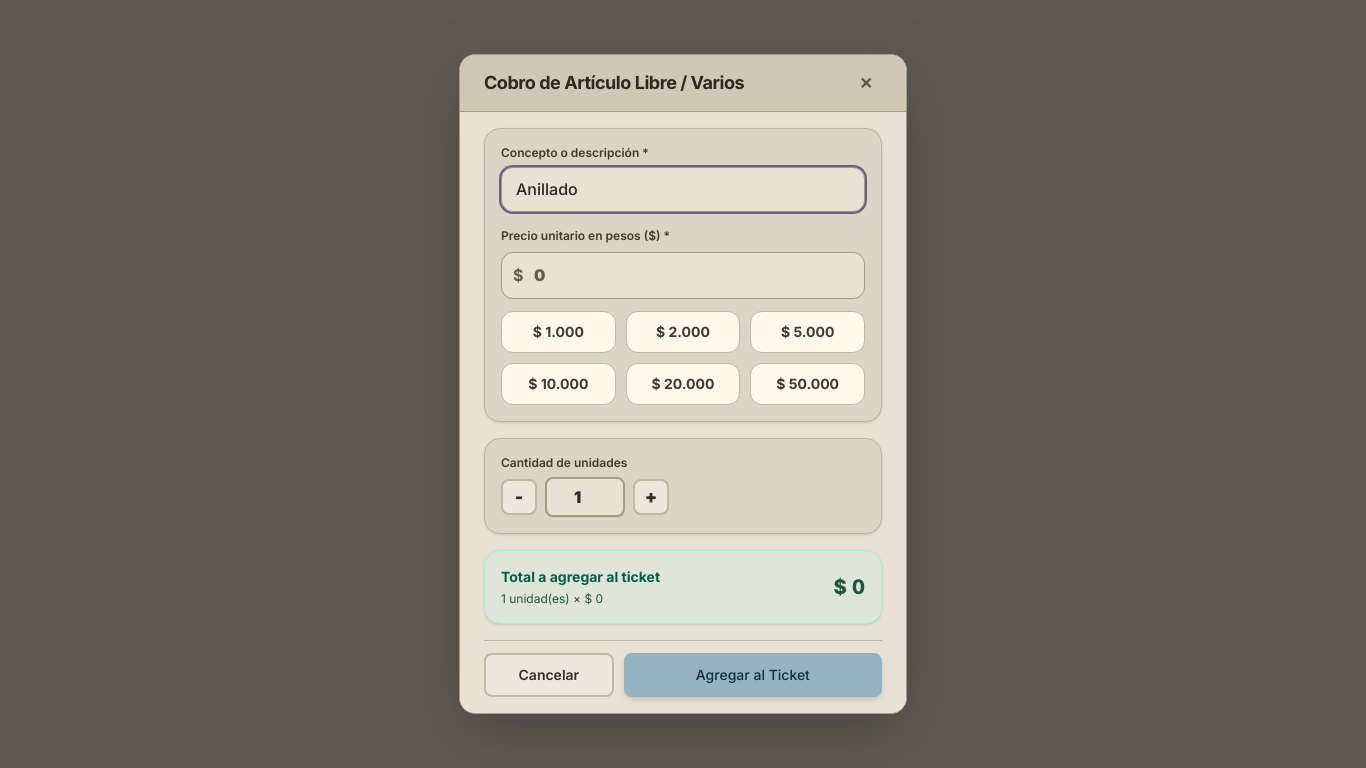
it: muestra el total antes de agregar el servicio al ticket
The image size is (1366, 768).
Step 1. Type "150" into the field named "Precio unitario en pesos" → (683, 275), box [501,252,865,299]
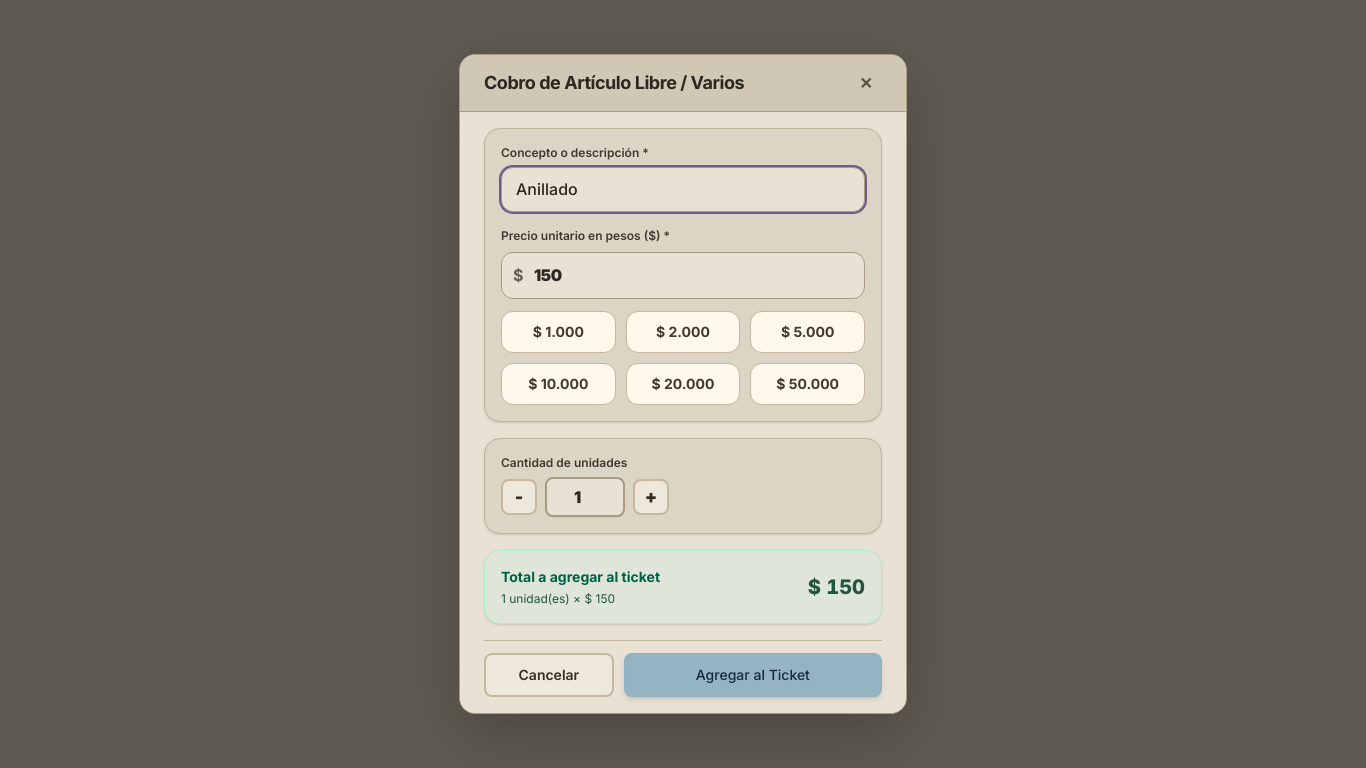
Step 2. Replace the text in the number field named "Cantidad de unidades" with "3" → (585, 497), box [545,477,625,517]
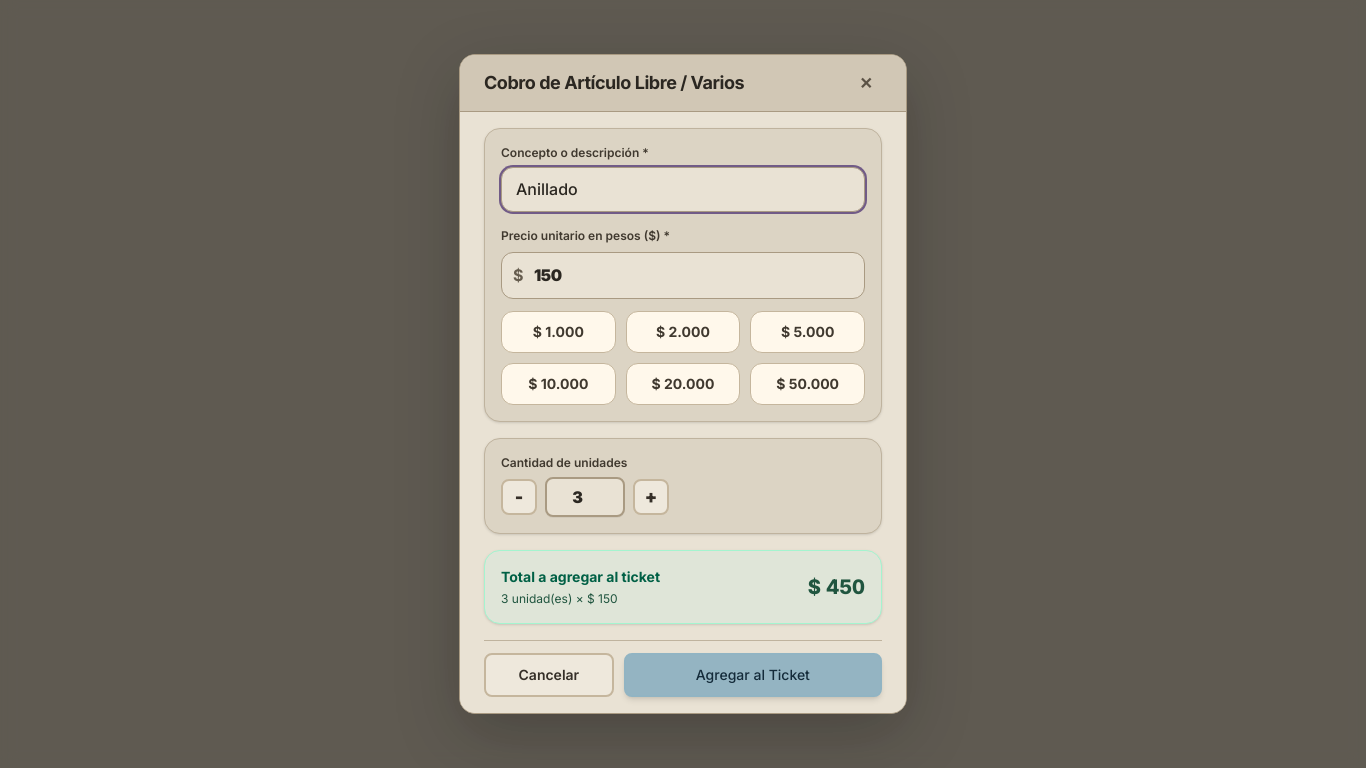
Expected: the text "$ 450" is shown, [808,573,865,601]
